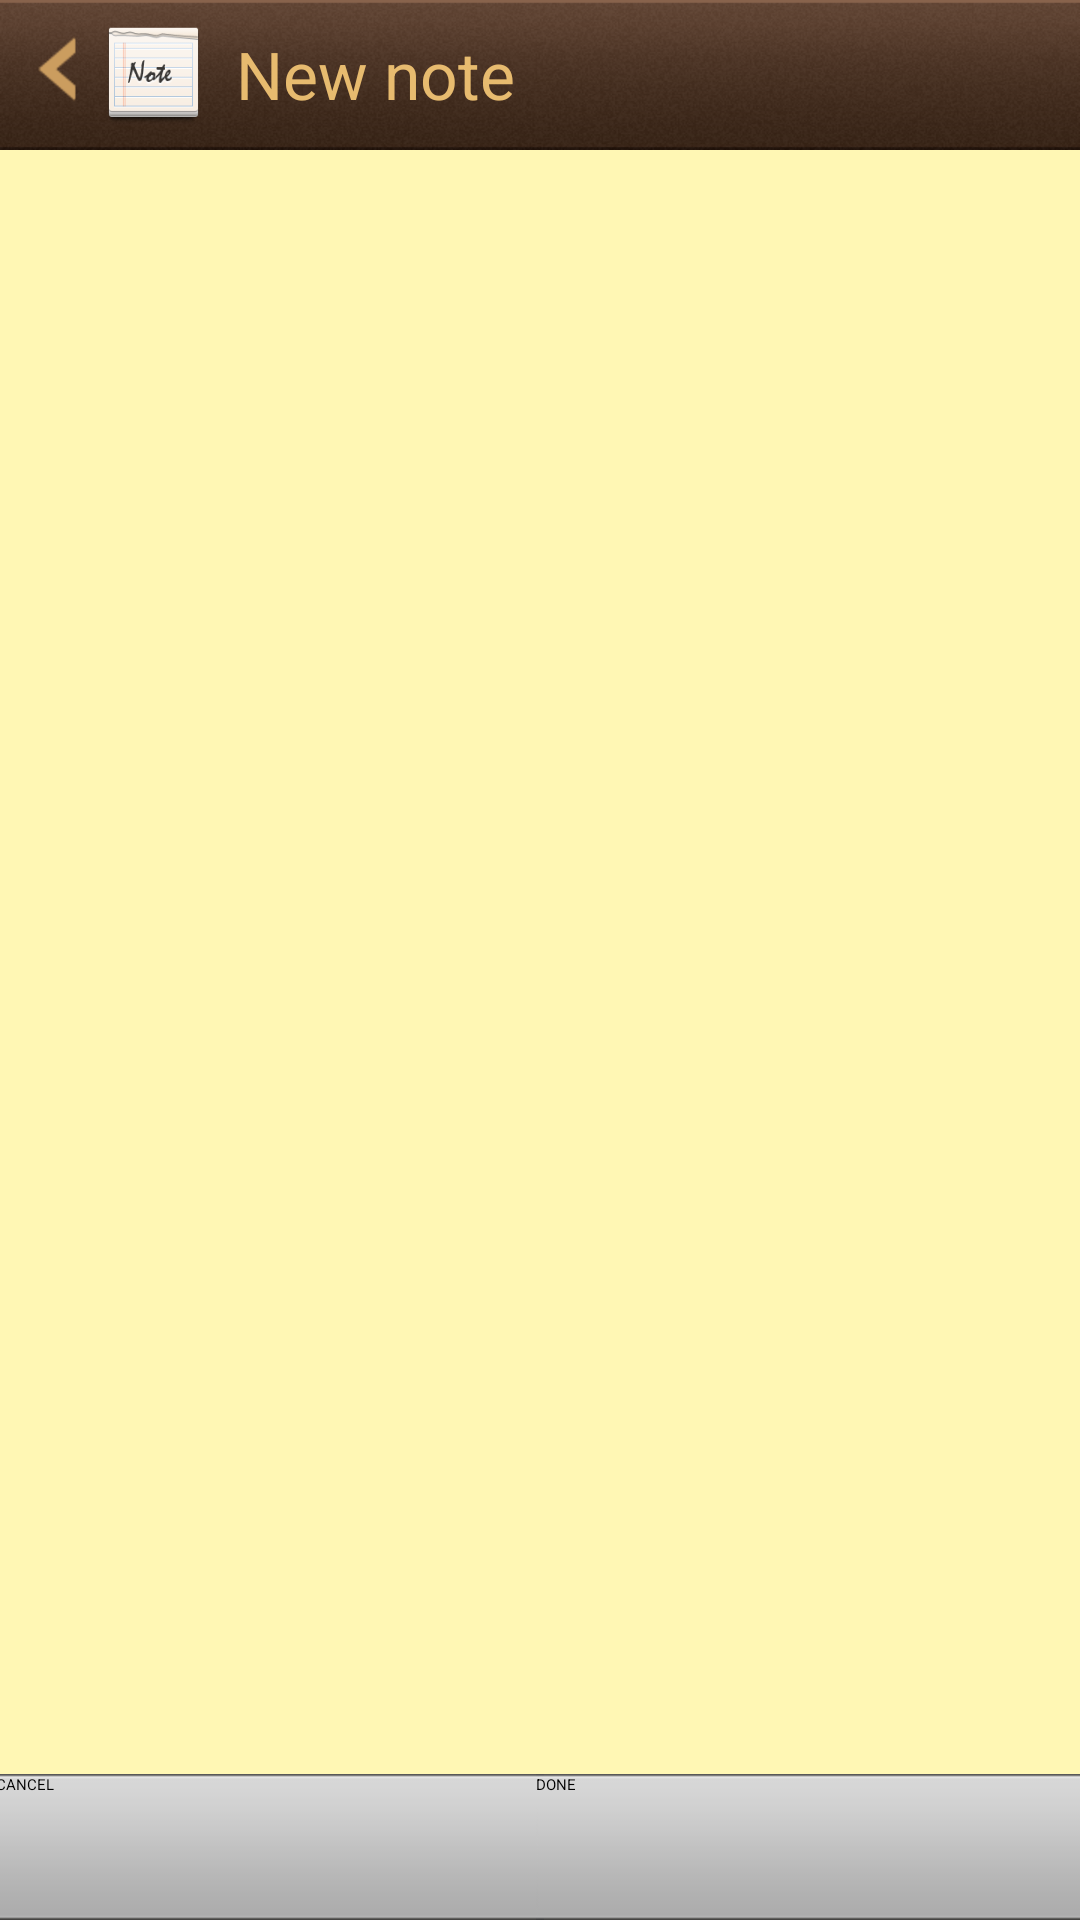

Point at icon controls on the screen. Image size 1080w x 1920h, points as (x=x, y=y).
Back: (x=58, y=69)
